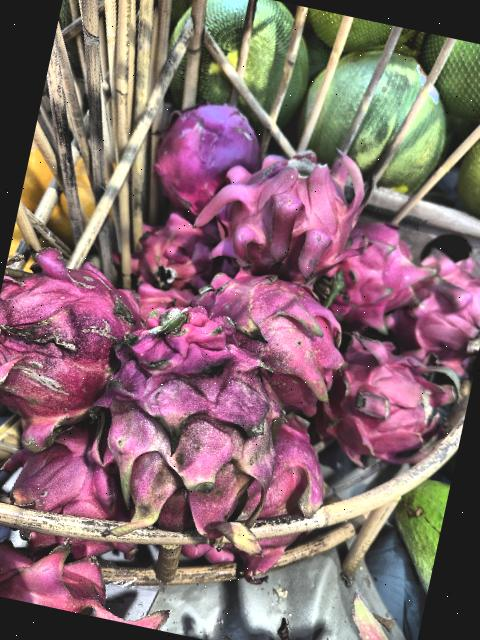buah-naga-belum-matang: (78, 300, 303, 536)
buah-naga-matang: (174, 237, 370, 400), (0, 237, 142, 444), (201, 135, 368, 277), (320, 330, 450, 476), (150, 85, 268, 225), (312, 216, 434, 332), (400, 232, 480, 373)
